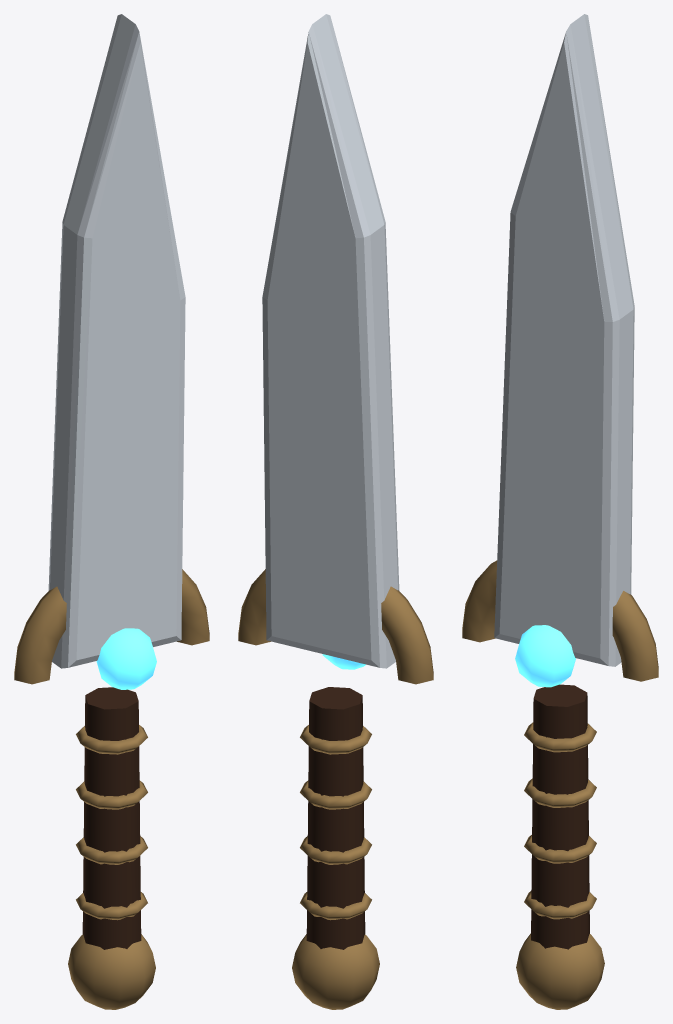
File: dagger_f0_29383914.glb
3 renders of one model, left to right at view 1: azimuth 30°, elevation 25°; view 2: azimuth 150°, elevation 25°; view 3: azimuth 330°, elevation 25°, orthographic.
Parts seen in each view (by area): view 1: m0_ow80_, m3_ow80_, m2_ow80_, m1_gm160_; view 2: m0_ow80_, m3_ow80_, m2_ow80_; view 3: m0_ow80_, m3_ow80_, m2_ow80_, m1_gm160_.
Part boxes in pixels (x1,y1,x2,y2): m0_ow80_: [48, 14, 185, 668]; m3_ow80_: [14, 569, 209, 1009]; m2_ow80_: [82, 687, 141, 949]; m1_gm160_: [96, 628, 156, 689]; m0_ow80_: [262, 14, 399, 668]; m3_ow80_: [238, 569, 433, 1009]; m2_ow80_: [306, 687, 365, 949]; m0_ow80_: [494, 14, 634, 666]; m3_ow80_: [462, 560, 658, 1009]; m2_ow80_: [531, 684, 589, 949]; m1_gm160_: [515, 625, 575, 687].
Size of the model in its own units: 0.244 by 1.17 by 0.1107.
